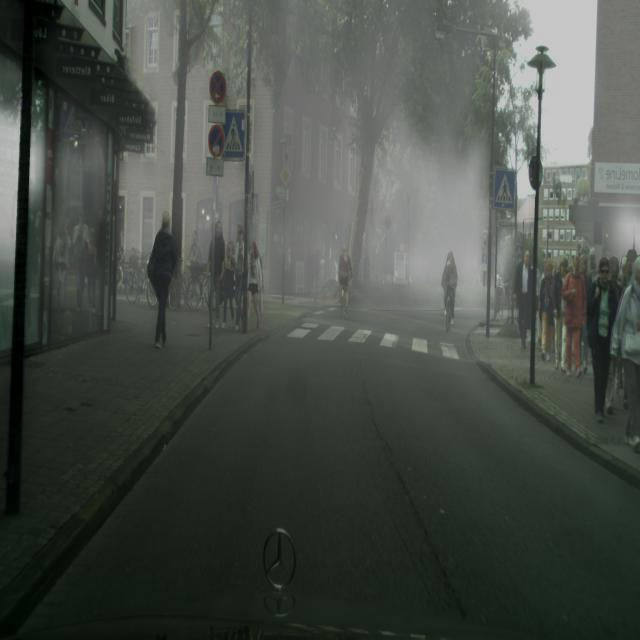car: (125, 253, 158, 306), (440, 250, 458, 333), (340, 245, 353, 319)
person: (586, 256, 618, 424), (616, 258, 640, 449), (147, 212, 179, 351), (562, 256, 586, 378), (517, 249, 539, 352), (539, 258, 556, 363), (72, 207, 89, 311), (208, 221, 225, 324), (554, 256, 569, 372), (53, 220, 71, 311), (245, 241, 263, 331), (221, 239, 237, 327), (233, 225, 246, 330)
